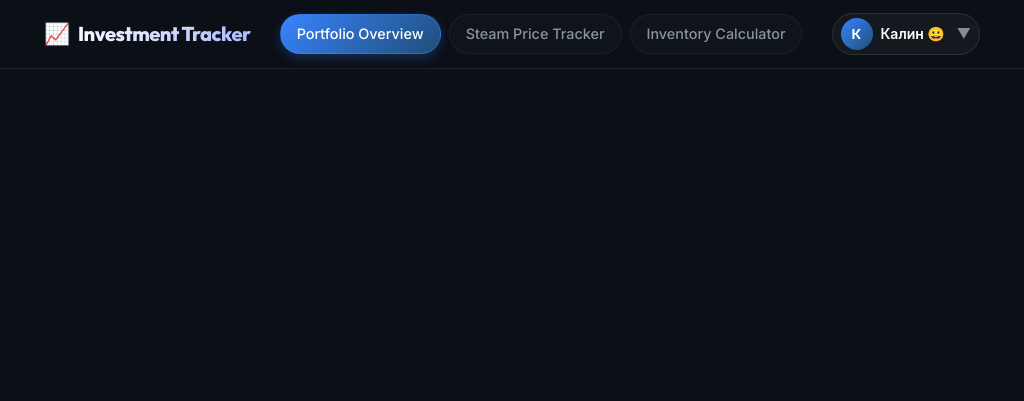
Test: the real profile menu renders Unicode names and the decoded support permission
The width and height of the screenshot is (1024, 401).
Click the button "К Калин 😀 ▼".
click(906, 34)  # box top-left (832, 13), bottom-right (980, 55)
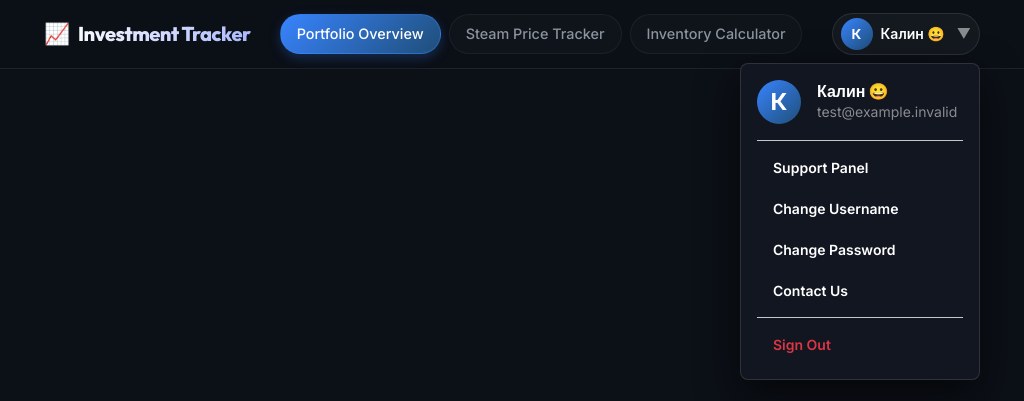
Now the heading "Калин 😀" is shown, box top-left (817, 82), bottom-right (888, 101)
Now the button "Support Panel" is shown, box top-left (757, 149), bottom-right (963, 186)
